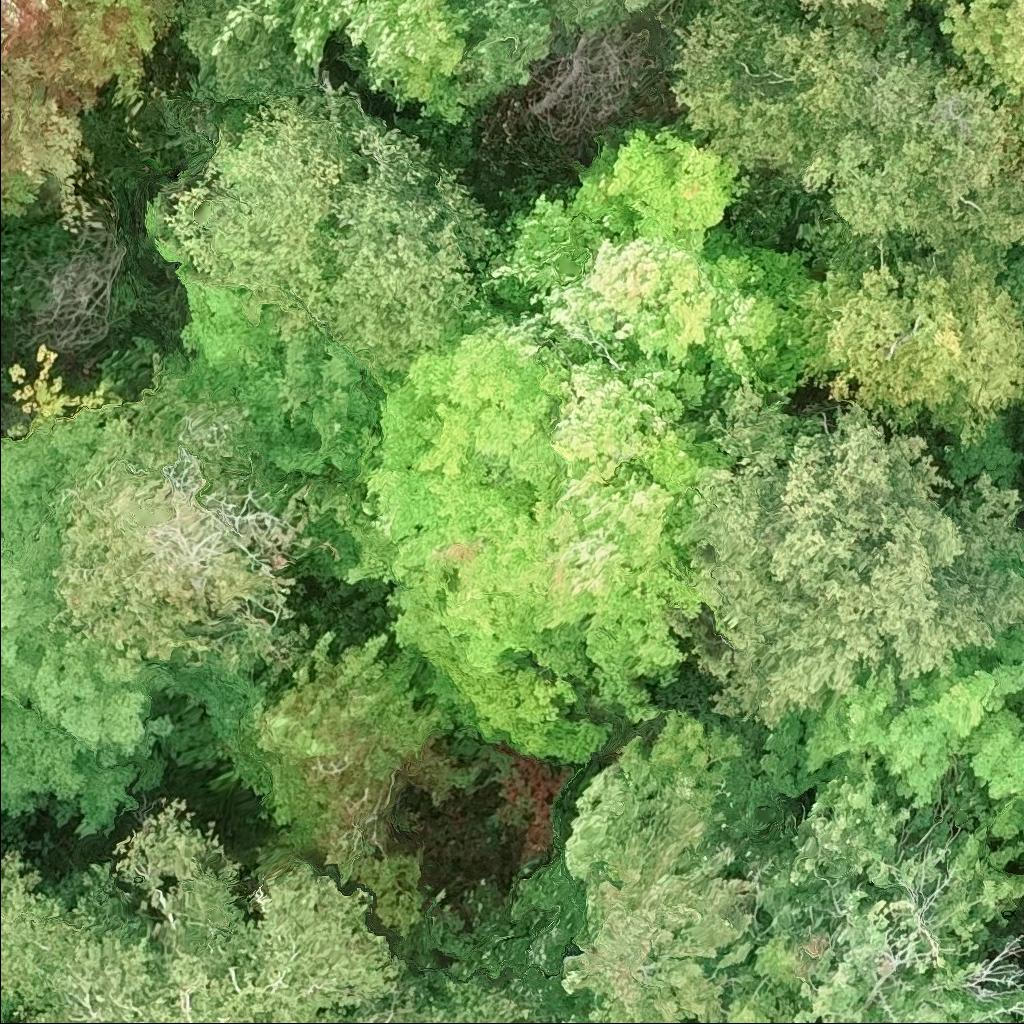crown: (344, 287, 730, 769), (673, 387, 1023, 734), (143, 193, 417, 575), (481, 115, 811, 409), (667, 0, 1023, 269), (727, 756, 1023, 1023), (0, 405, 176, 839), (0, 793, 280, 1023), (250, 629, 482, 886), (760, 618, 1023, 841), (559, 742, 764, 1023), (48, 454, 300, 670), (248, 841, 535, 1023), (157, 86, 362, 336), (323, 98, 507, 365), (778, 245, 1023, 445), (0, 0, 177, 233), (214, 0, 482, 127), (935, 0, 1023, 127), (470, 0, 654, 28), (799, 0, 891, 21), (1000, 246, 1023, 306), (0, 997, 17, 1023), (915, 0, 950, 7), (1021, 563, 1023, 572)
